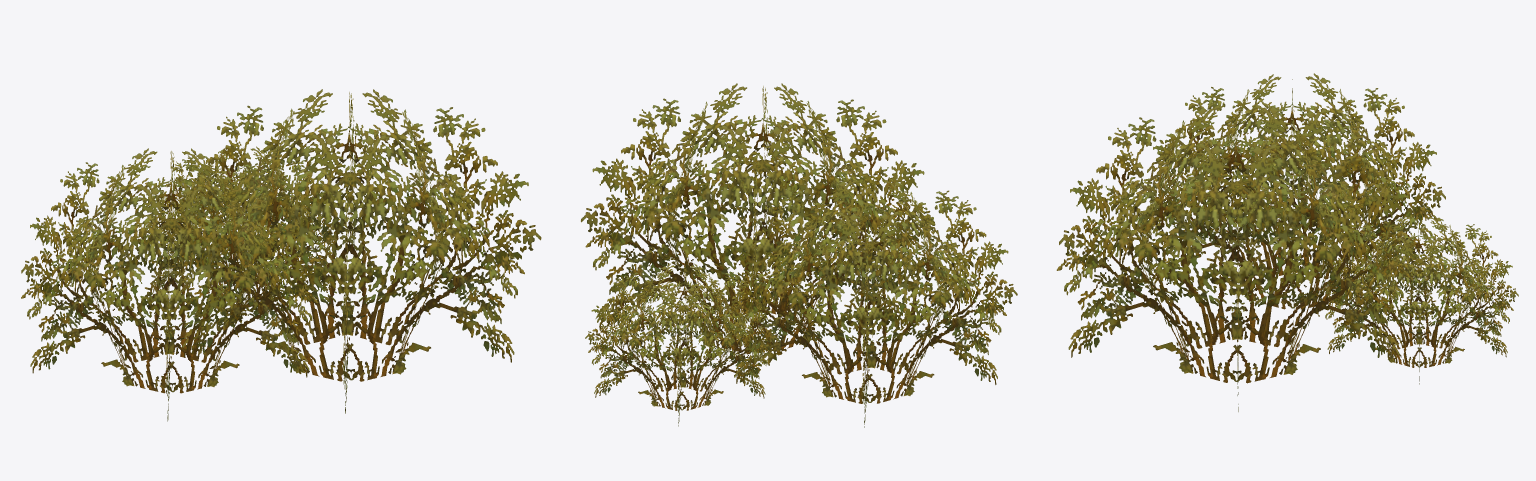
The model's file is grs_weed09_2.glb.
The picture shows the model from 3 angles, left to right: view 1: azimuth 30°, elevation 25°; view 2: azimuth 150°, elevation 25°; view 3: azimuth 270°, elevation 25°; orthographic projection. The views are drawn at different scales.
Parts seen in each view (by area): view 1: grs_weed09_2; view 2: grs_weed09_2; view 3: grs_weed09_2.
Boxes of the visible parts, left/top/right/bottom form: grs_weed09_2: left=21, top=89, right=541, bottom=421; grs_weed09_2: left=581, top=83, right=1017, bottom=427; grs_weed09_2: left=1056, top=73, right=1518, bottom=411.
Bounding box in the file's own units: 15.43 × 7.96 × 12.98.
Materials: 1 (1 with a texture image).
